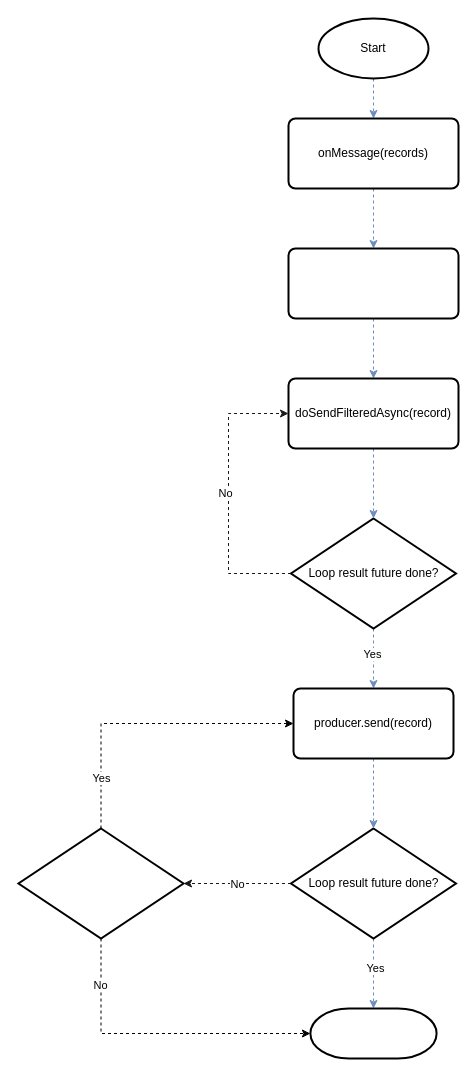
The diagram is 476 pixels wide and 1076 high, and some of its shapes have lost their labels. Each missing label, with the centre of its shape:
"CustomFilter" belongs at (x=373, y=283).
"End" belongs at (x=373, y=1033).
"retries_at_most?" belongs at (x=100, y=883).
